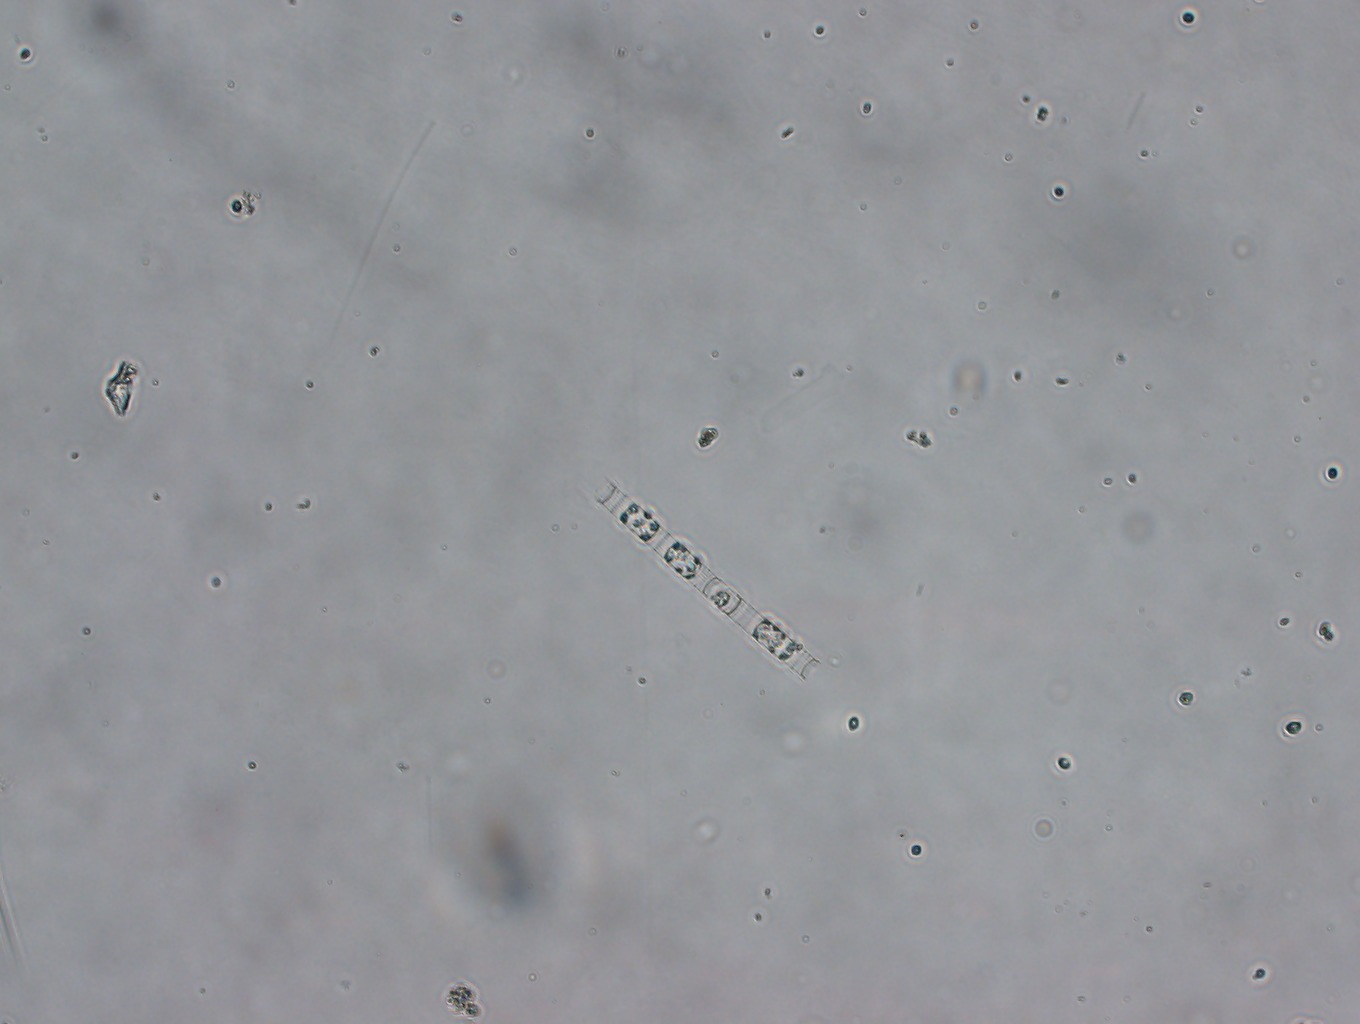skeletonema: (583, 478, 829, 692)
